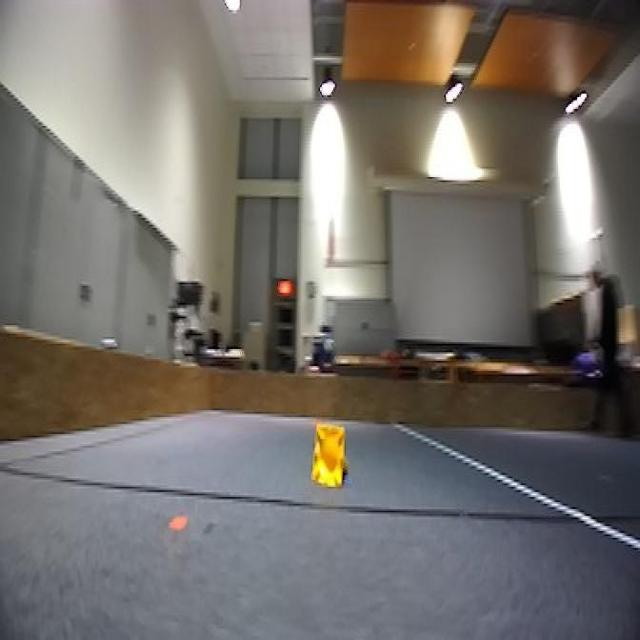frc_cone: (306, 417, 355, 494)
